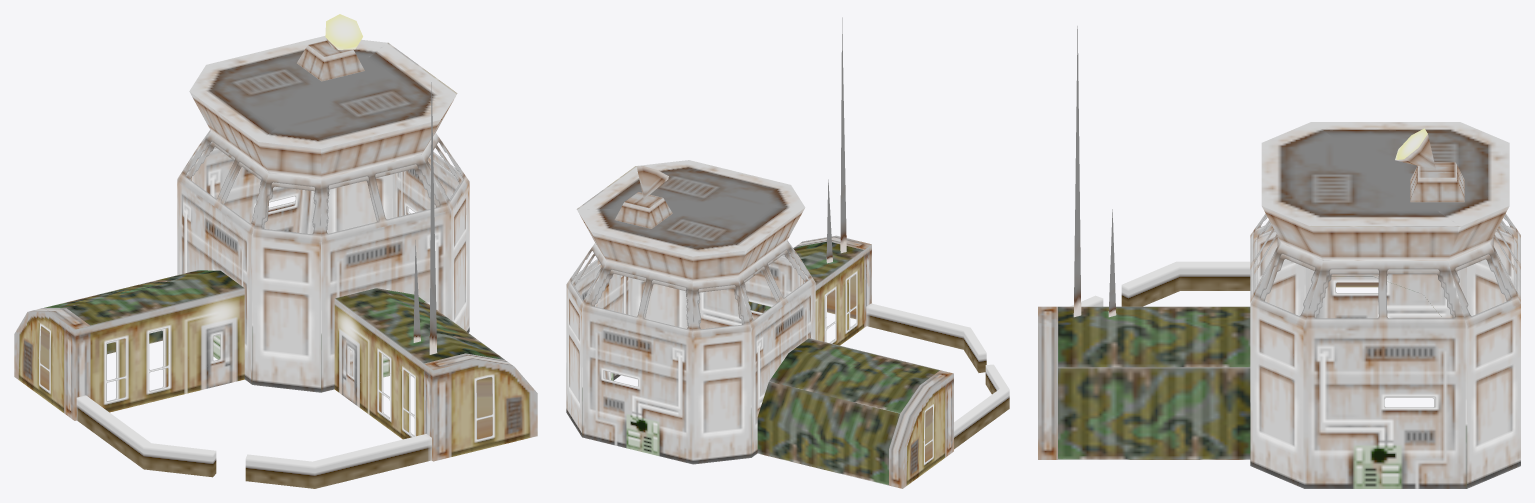
The model's file is l_spotlightcontrol.glb.
3 renders of one model, left to right at view 1: azimuth 30°, elevation 25°; view 2: azimuth 150°, elevation 25°; view 3: azimuth 270°, elevation 25°, orthographic. The views are drawn at different scales.
Visible parts, largest first — view 1: L_SpotlightControl, LitWin_Spotcon, LOS_Ant1, light; view 2: L_SpotlightControl, LitWin_Spotcon, LOS_Ant1, light; view 3: L_SpotlightControl, LitWin_Spotcon, LOS_Ant1, light.
Boxes of the visible parts, bbox=[...] form: L_SpotlightControl: bbox=[14, 36, 537, 488]; LitWin_Spotcon: bbox=[40, 141, 492, 439]; LOS_Ant1: bbox=[413, 82, 437, 354]; light: bbox=[325, 14, 362, 49]; L_SpotlightControl: bbox=[566, 160, 1009, 488]; LitWin_Spotcon: bbox=[572, 250, 932, 462]; LOS_Ant1: bbox=[826, 17, 846, 263]; light: bbox=[637, 166, 668, 199]; L_SpotlightControl: bbox=[1038, 122, 1520, 488]; LitWin_Spotcon: bbox=[1254, 220, 1516, 406]; LOS_Ant1: bbox=[1073, 26, 1116, 317]; light: bbox=[1395, 128, 1435, 169].
Bounding box in the file's own units: 17.83 × 16.31 × 17.85.
Materials: 1 (1 with a texture image).
